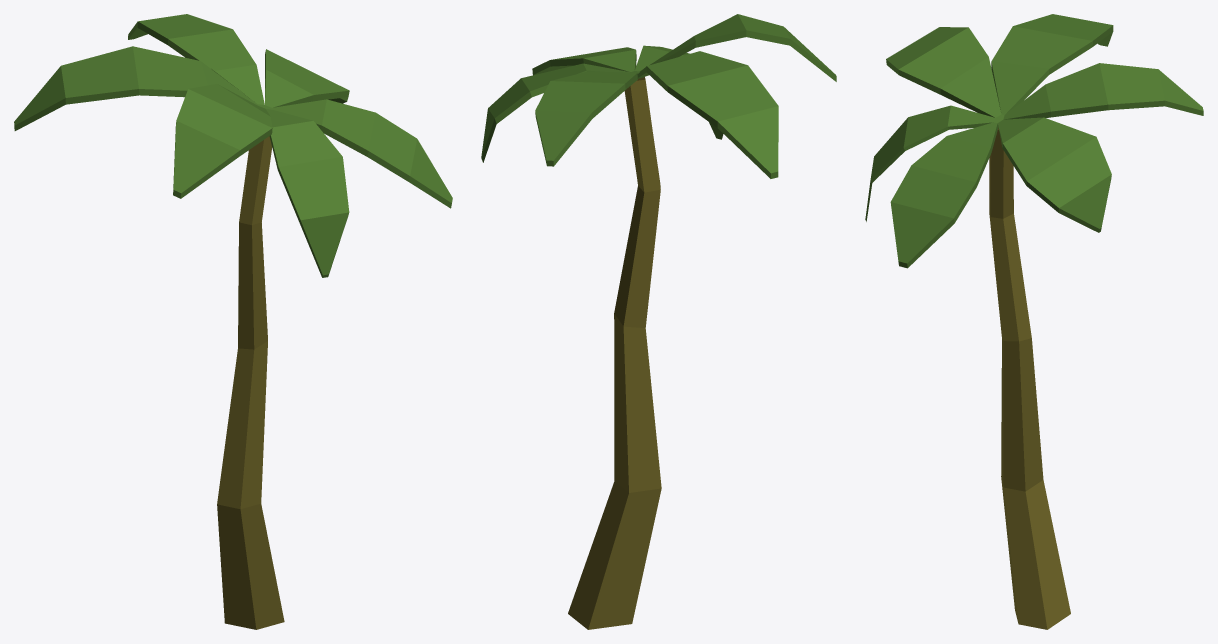
Rendered from Palm_3_low.fbx.
The picture shows the model from 3 angles, left to right: view 1: azimuth 30°, elevation 25°; view 2: azimuth 150°, elevation 25°; view 3: azimuth 270°, elevation 25°; orthographic projection. The views are drawn at different scales.
Parts seen in each view (by area): view 1: Palma_3_low; view 2: Palma_3_low; view 3: Palma_3_low.
Boxes of the visible parts, box(x1,y1,x2,y2) form: Palma_3_low: box(14, 14, 452, 629); Palma_3_low: box(481, 14, 836, 629); Palma_3_low: box(865, 14, 1203, 629).
Size of the model in its own units: 2.49 by 4.14 by 2.35.
